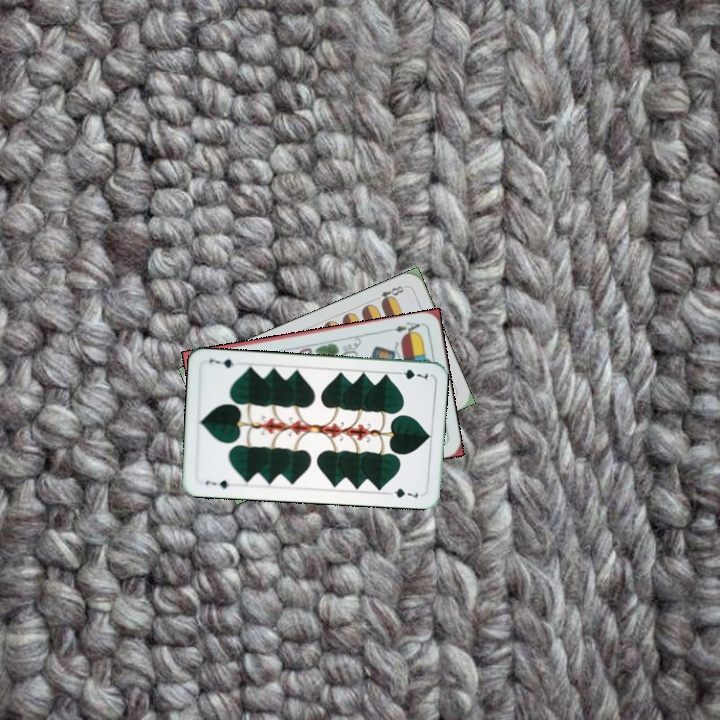E8: (377, 282, 409, 307)
EA: (385, 318, 425, 338)
G7: (391, 365, 431, 383), (201, 476, 232, 491)
